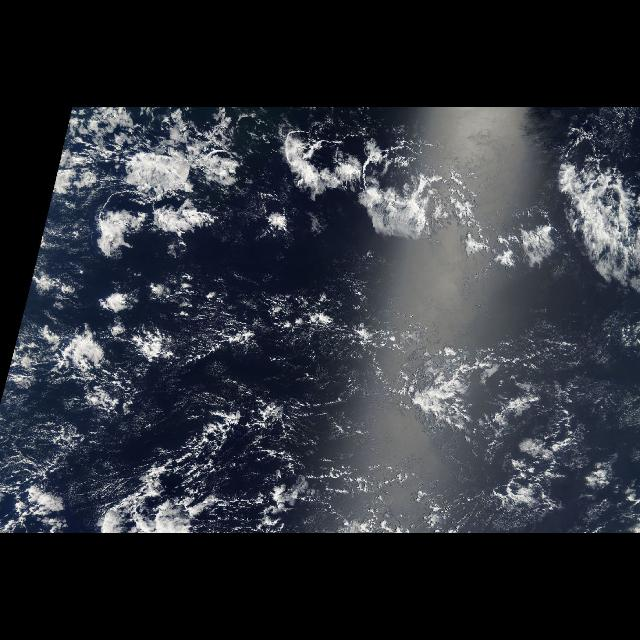Flower: (110, 127, 488, 266)
